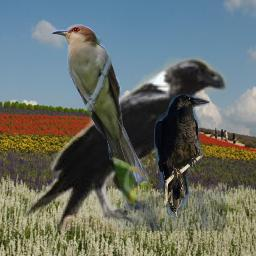Crow: (16, 52, 226, 231), (154, 94, 210, 220)
Cuckoo: (51, 24, 151, 213)
